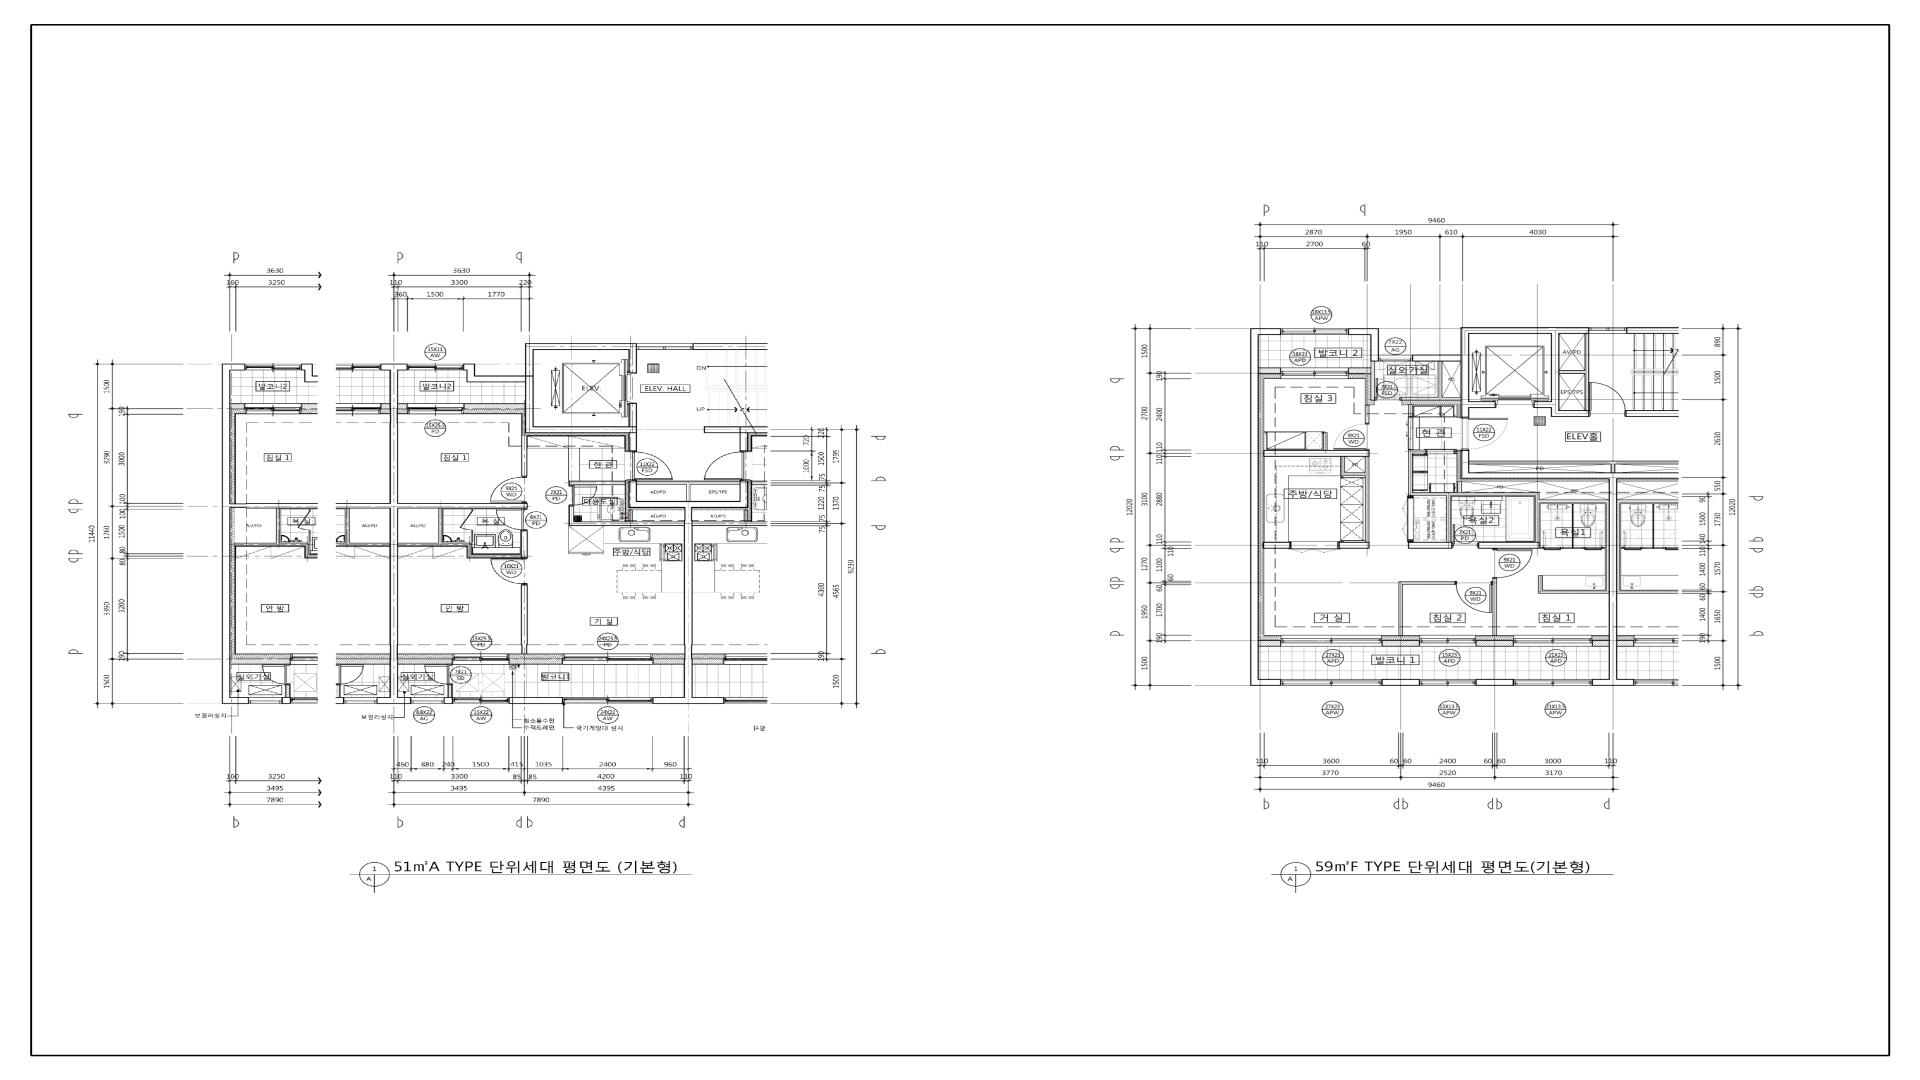door: (1461, 417, 1507, 450), (626, 451, 674, 480), (1589, 382, 1626, 417), (1455, 582, 1493, 613), (1493, 549, 1532, 579), (489, 476, 527, 502), (491, 558, 527, 584), (1333, 423, 1369, 450), (496, 509, 527, 530), (1452, 524, 1478, 547), (425, 663, 452, 686), (568, 485, 597, 506), (1375, 378, 1402, 401), (1291, 541, 1338, 553), (1402, 496, 1414, 542), (1542, 531, 1561, 550), (1584, 531, 1602, 550), (459, 510, 473, 530), (1408, 417, 1414, 450), (1425, 448, 1457, 454)
wall: (1250, 335, 1259, 686), (389, 364, 398, 704), (1609, 479, 1618, 686), (684, 508, 692, 704), (1469, 472, 1679, 479), (398, 502, 527, 509), (1469, 460, 1679, 464), (1469, 327, 1589, 334), (1551, 334, 1560, 417), (1461, 327, 1469, 418), (1263, 450, 1370, 456), (525, 343, 629, 349), (534, 426, 637, 433), (637, 501, 740, 508), (574, 521, 684, 526), (525, 376, 534, 433), (1408, 492, 1535, 496), (692, 343, 767, 349), (521, 584, 527, 654), (1478, 542, 1539, 549), (464, 404, 525, 410), (509, 698, 563, 704), (398, 658, 452, 665), (509, 658, 563, 665), (1605, 500, 1609, 589), (1626, 327, 1679, 334), (1626, 410, 1679, 417), (1365, 456, 1369, 542), (475, 376, 525, 382), (1412, 355, 1461, 361), (1585, 334, 1589, 410), (1408, 542, 1452, 549), (1538, 589, 1609, 593), (521, 435, 527, 476), (1539, 500, 1605, 504), (1382, 679, 1420, 686), (1382, 640, 1420, 646), (1476, 640, 1514, 646), (1476, 679, 1514, 686), (1370, 335, 1379, 361), (525, 349, 534, 376), (1400, 397, 1461, 401), (629, 343, 637, 373), (704, 426, 740, 433), (1461, 450, 1469, 479), (1493, 579, 1497, 636), (568, 481, 625, 485), (629, 480, 637, 508), (740, 426, 767, 434), (740, 480, 748, 508), (1399, 582, 1403, 636), (1250, 328, 1282, 335), (1348, 328, 1379, 335), (1370, 361, 1375, 401), (1469, 401, 1495, 409), (653, 698, 684, 704), (653, 658, 684, 665), (1338, 542, 1370, 549), (1535, 492, 1539, 542), (398, 543, 471, 546), (1262, 542, 1291, 549), (1560, 410, 1589, 417), (1437, 361, 1443, 397), (521, 530, 527, 558), (1447, 496, 1451, 542), (629, 404, 637, 426), (1348, 368, 1371, 375), (1408, 454, 1412, 492), (1258, 368, 1280, 375), (1258, 640, 1280, 646), (740, 433, 748, 451), (629, 433, 637, 451), (1259, 679, 1280, 686), (438, 509, 442, 543), (1403, 582, 1455, 584), (471, 555, 521, 558), (1592, 640, 1609, 646), (1592, 679, 1609, 686), (1534, 401, 1551, 407), (568, 506, 574, 526), (1340, 472, 1365, 476), (1560, 371, 1585, 375), (467, 371, 475, 382), (1323, 433, 1328, 450), (398, 698, 411, 704), (1340, 456, 1345, 472), (1538, 575, 1543, 589), (1365, 405, 1369, 423), (464, 364, 475, 371), (1408, 450, 1425, 454), (447, 686, 452, 698), (398, 404, 407, 410), (443, 698, 452, 704), (1572, 504, 1573, 547), (1457, 481, 1462, 492), (1408, 404, 1412, 417), (629, 510, 633, 522), (467, 546, 471, 558), (1610, 464, 1615, 472), (471, 530, 473, 542), (1561, 547, 1584, 549), (1539, 547, 1542, 549), (1602, 547, 1605, 549)
window: (1280, 636, 1382, 646), (563, 654, 653, 665), (1514, 634, 1592, 646), (1280, 368, 1348, 380), (1280, 679, 1382, 686), (452, 654, 509, 665), (563, 698, 653, 704), (407, 404, 463, 414), (1420, 636, 1476, 646), (1514, 679, 1592, 686), (1280, 328, 1348, 335), (452, 698, 509, 704), (407, 364, 464, 371), (637, 343, 692, 349), (1420, 679, 1476, 686), (1589, 327, 1626, 334), (1379, 355, 1412, 361), (411, 698, 444, 704)
